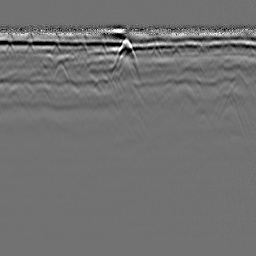cavity: (114, 35, 140, 68)
